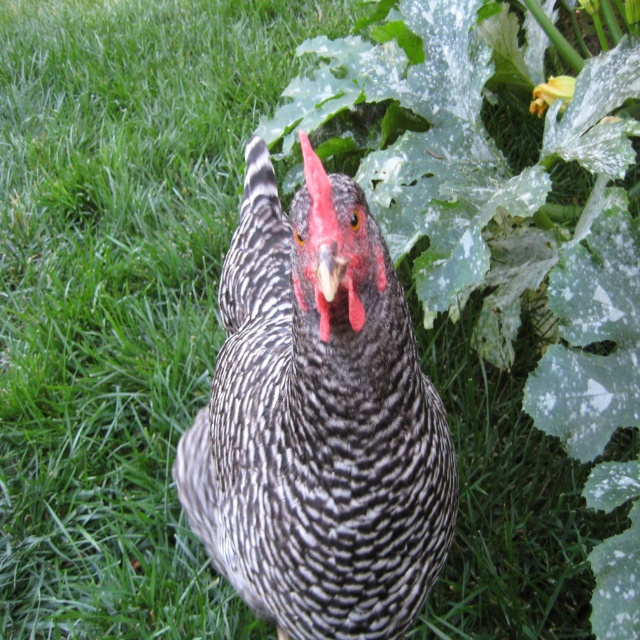Chicken: (190, 126, 452, 640)
